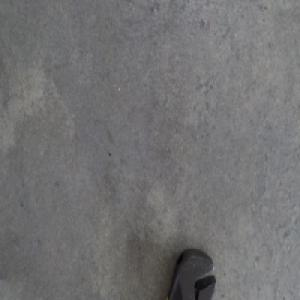AdjustableWrench: (165, 250, 217, 299)
